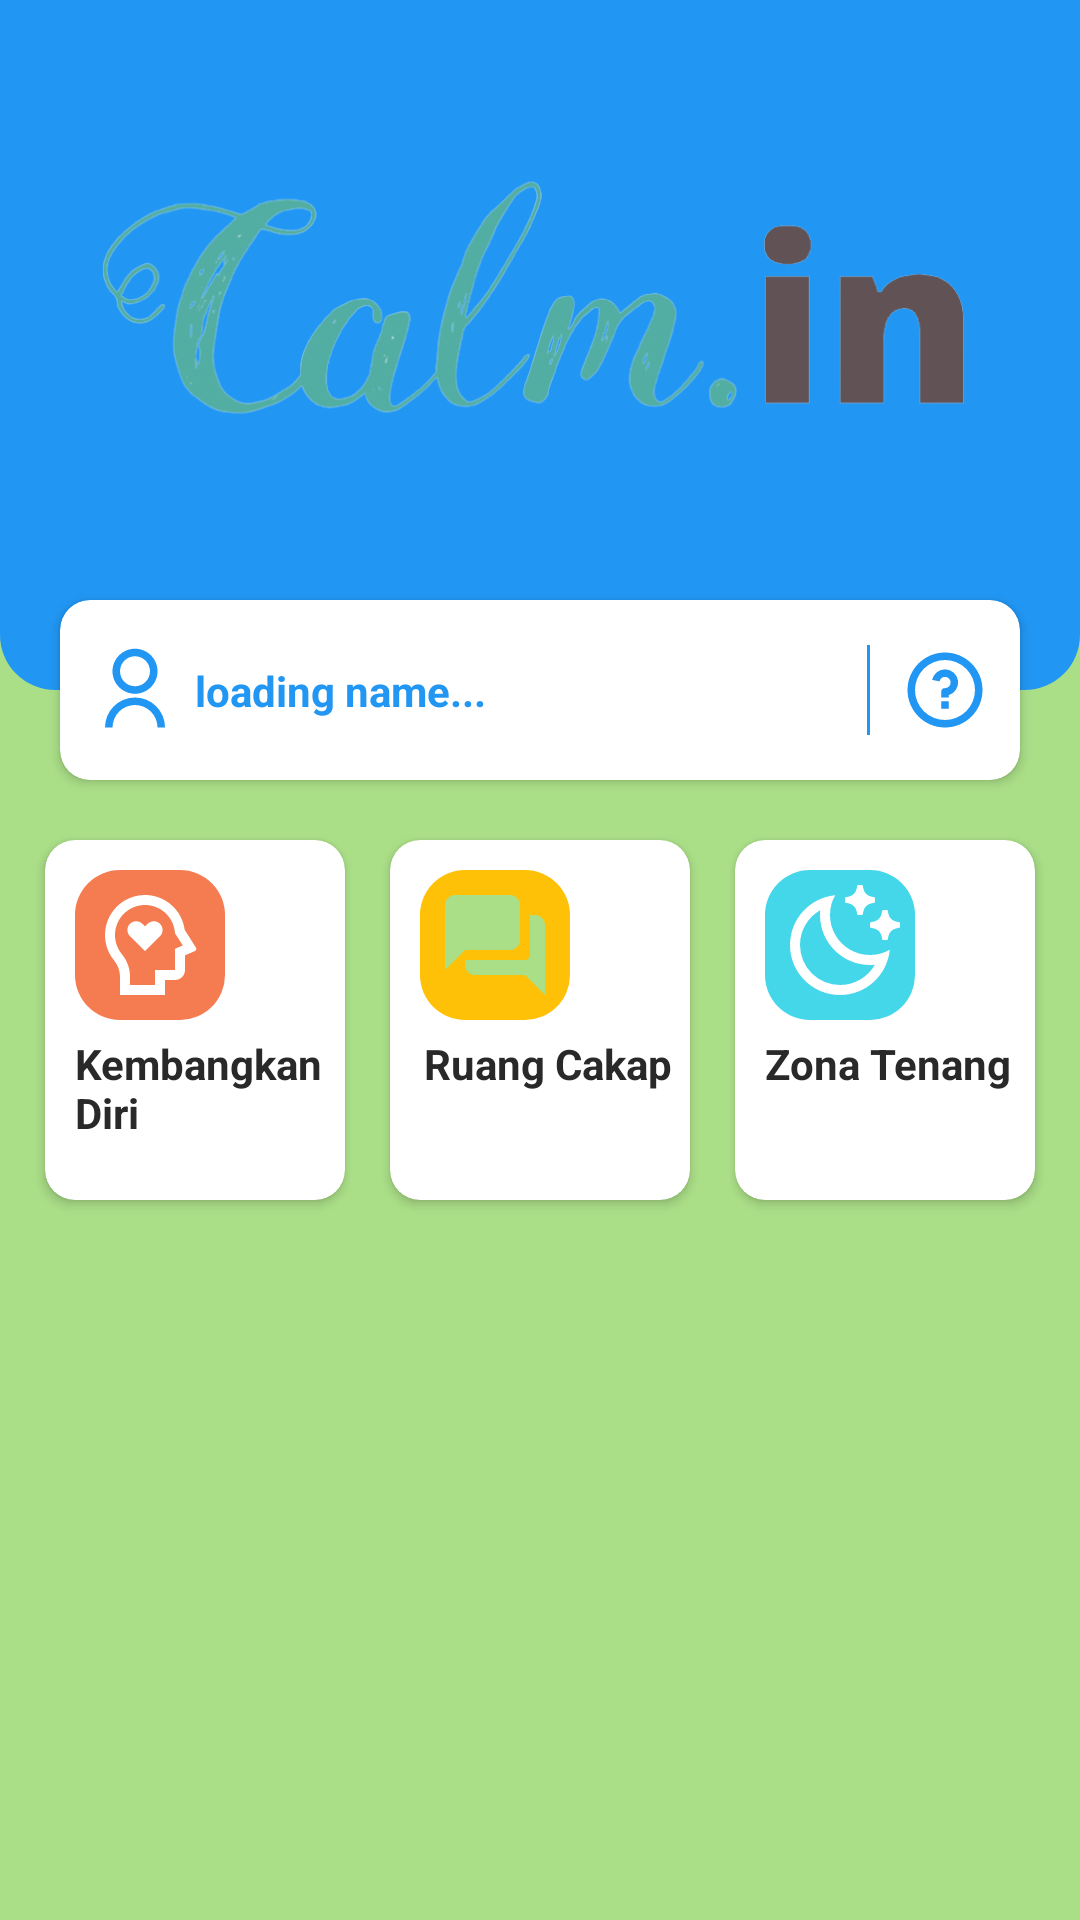

Icon bounding boxes for this 1080x1920 phone screenshot, format [x1, y1, x2, y2]:
forum: [420, 870, 570, 1020]
mental health: [75, 870, 225, 1020]
moon: [765, 870, 915, 1020]
question: [907, 652, 983, 728]
user: [105, 648, 165, 728]
